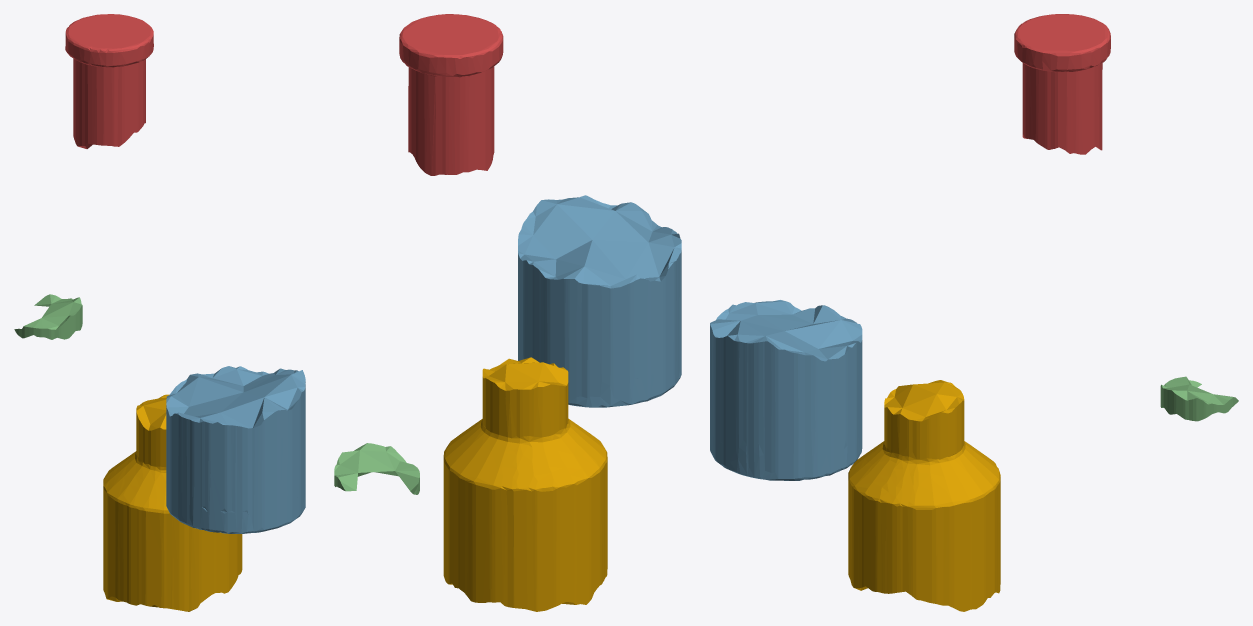
The model's file is fractured_22_4pcs_transformed.glb.
3 renders of one model, left to right at view 1: azimuth 30°, elevation 25°; view 2: azimuth 150°, elevation 25°; view 3: azimuth 270°, elevation 25°, orthographic. The views are drawn at different scales.
Visible parts, largest first — view 1: piece_2.obj, piece_0.obj, piece_1.obj, piece_3.obj; view 2: piece_0.obj, piece_2.obj, piece_1.obj, piece_3.obj; view 3: piece_0.obj, piece_2.obj, piece_1.obj, piece_3.obj.
Boxes of the visible parts, box(x1,y1,x2,y2) form: piece_2.obj: box(166, 366, 305, 533); piece_0.obj: box(103, 394, 242, 611); piece_1.obj: box(65, 14, 153, 148); piece_3.obj: box(14, 294, 82, 339); piece_0.obj: box(443, 357, 607, 611); piece_2.obj: box(518, 195, 681, 407); piece_1.obj: box(399, 14, 503, 175); piece_3.obj: box(334, 443, 419, 494); piece_0.obj: box(848, 380, 1000, 611); piece_2.obj: box(710, 300, 862, 480); piece_1.obj: box(1014, 14, 1110, 154); piece_3.obj: box(1160, 376, 1238, 421).
Size of the model in its own units: 0.3308 by 1.34 by 1.15.
